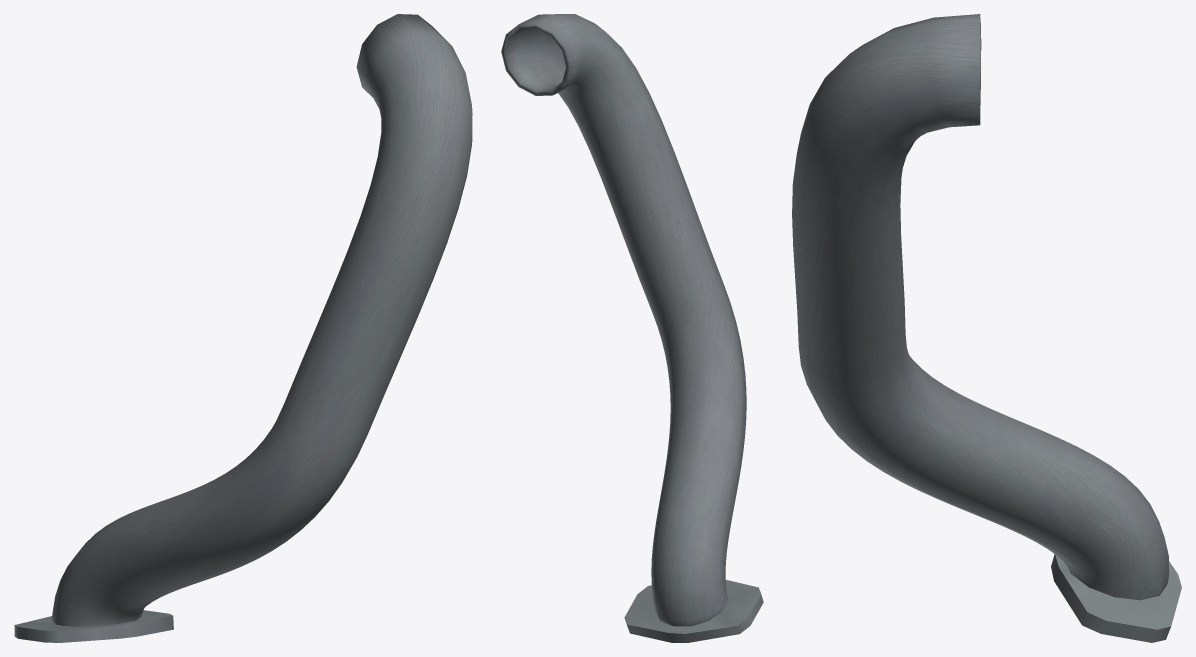
The model's file is TurboCharger_Small_Exhaust_Outlet_Pipe.obj.
The picture shows the model from 3 angles, left to right: view 1: azimuth 30°, elevation 25°; view 2: azimuth 150°, elevation 25°; view 3: azimuth 270°, elevation 25°; orthographic projection. The views are drawn at different scales.
Parts seen in each view (by area): view 1: TurboCharger_Small_Exhaust_Outlet_Tube_BezierCurve.008, Exhaust-Connector.001_motor_racing_exhaust_manifold_001-sharedas; view 2: TurboCharger_Small_Exhaust_Outlet_Tube_BezierCurve.008, Exhaust-Connector.001_motor_racing_exhaust_manifold_001-sharedas; view 3: TurboCharger_Small_Exhaust_Outlet_Tube_BezierCurve.008, Exhaust-Connector.001_motor_racing_exhaust_manifold_001-sharedas.
Boxes of the visible parts, box(x1,y1,x2,y2) form: TurboCharger_Small_Exhaust_Outlet_Tube_BezierCurve.008: box(52, 14, 472, 626); Exhaust-Connector.001_motor_racing_exhaust_manifold_001-sharedas: box(14, 610, 173, 642); TurboCharger_Small_Exhaust_Outlet_Tube_BezierCurve.008: box(501, 14, 746, 626); Exhaust-Connector.001_motor_racing_exhaust_manifold_001-sharedas: box(624, 580, 763, 642); TurboCharger_Small_Exhaust_Outlet_Tube_BezierCurve.008: box(792, 14, 1168, 600); Exhaust-Connector.001_motor_racing_exhaust_manifold_001-sharedas: box(1051, 554, 1181, 642).
Size of the model in its own units: 0.2004 by 0.3318 by 0.1605.
